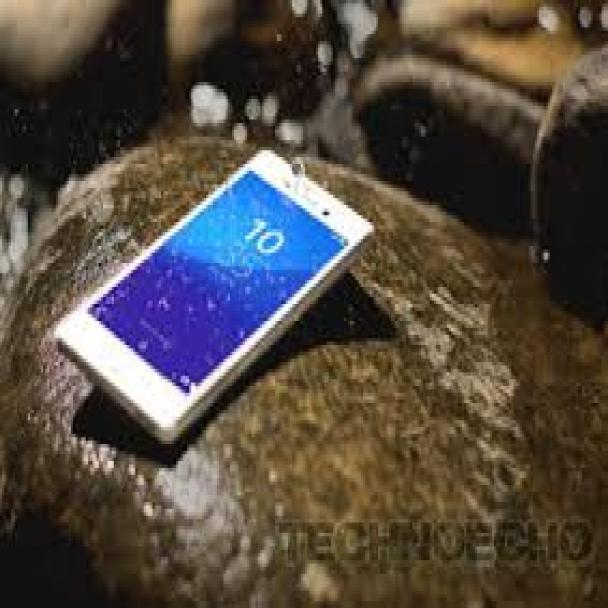Handphone: (48, 142, 380, 461)
